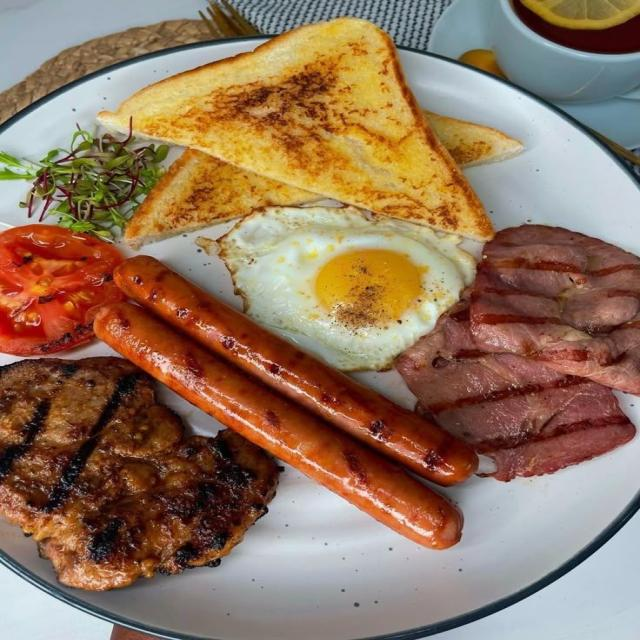beacon: (397, 298, 635, 481), (470, 225, 639, 394)
frayed chicken: (0, 358, 278, 590)
fryed egg: (218, 206, 474, 371)
sausage: (95, 303, 463, 548), (114, 256, 477, 486)
sliced tomatoe: (0, 225, 123, 355)
toast bread: (97, 17, 491, 240), (124, 149, 318, 248), (424, 111, 523, 167)
